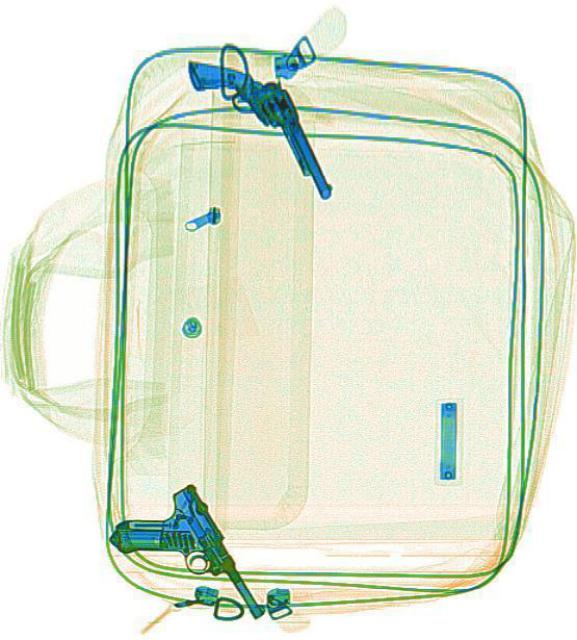Gun: (180, 25, 333, 227), (104, 481, 249, 637)
